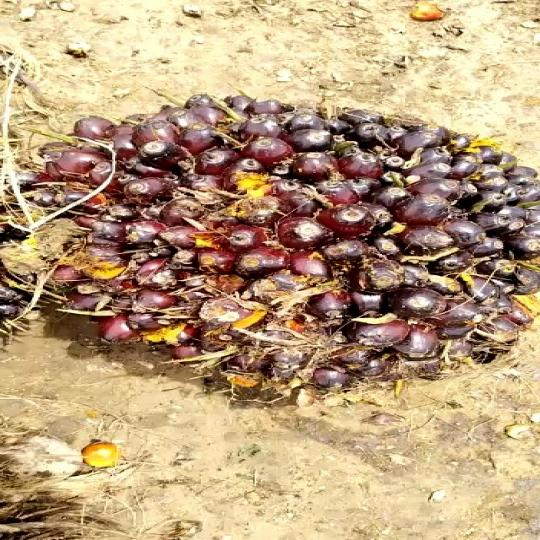kurang masak: (30, 101, 540, 439)
